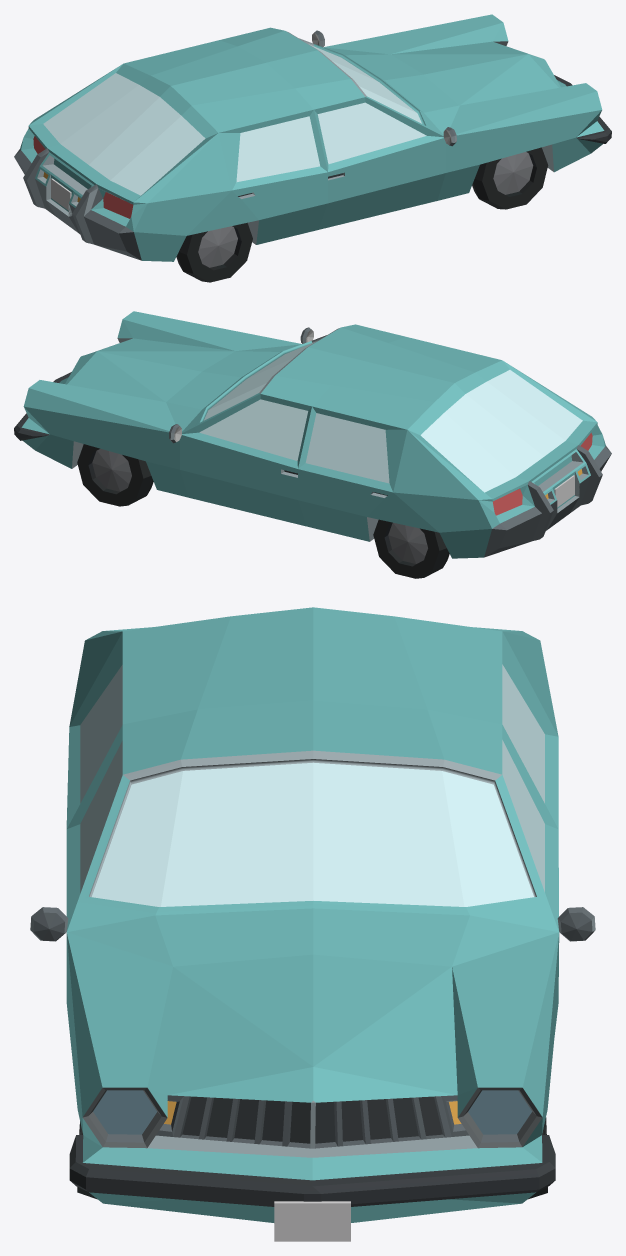
File: carC.fbx
3 renders of one model, top to bottom at view 1: azimuth 30°, elevation 25°; view 2: azimuth 150°, elevation 25°; view 3: azimuth 270°, elevation 25°, orthographic. The views are drawn at different scales.
Parts seen in each view (by area): view 1: car_main, tire_front_L, tire_back_L, plate_back; view 2: car_main, tire_front_R, tire_back_R, plate_back; view 3: car_main, plate_front.
Boxes of the visible parts, x1,y1,x2,y2 form: car_main: [14, 14, 611, 261]; tire_front_L: [472, 147, 548, 209]; tire_back_L: [176, 222, 252, 282]; plate_back: [51, 178, 71, 210]; car_main: [14, 311, 611, 558]; tire_front_R: [77, 444, 153, 506]; tire_back_R: [373, 519, 449, 578]; plate_back: [554, 475, 574, 507]; car_main: [30, 607, 595, 1222]; plate_front: [274, 1201, 350, 1241].
Bounding box in the file's own units: 15.86 × 4.4 × 7.39.
1 material, 1 textured.
